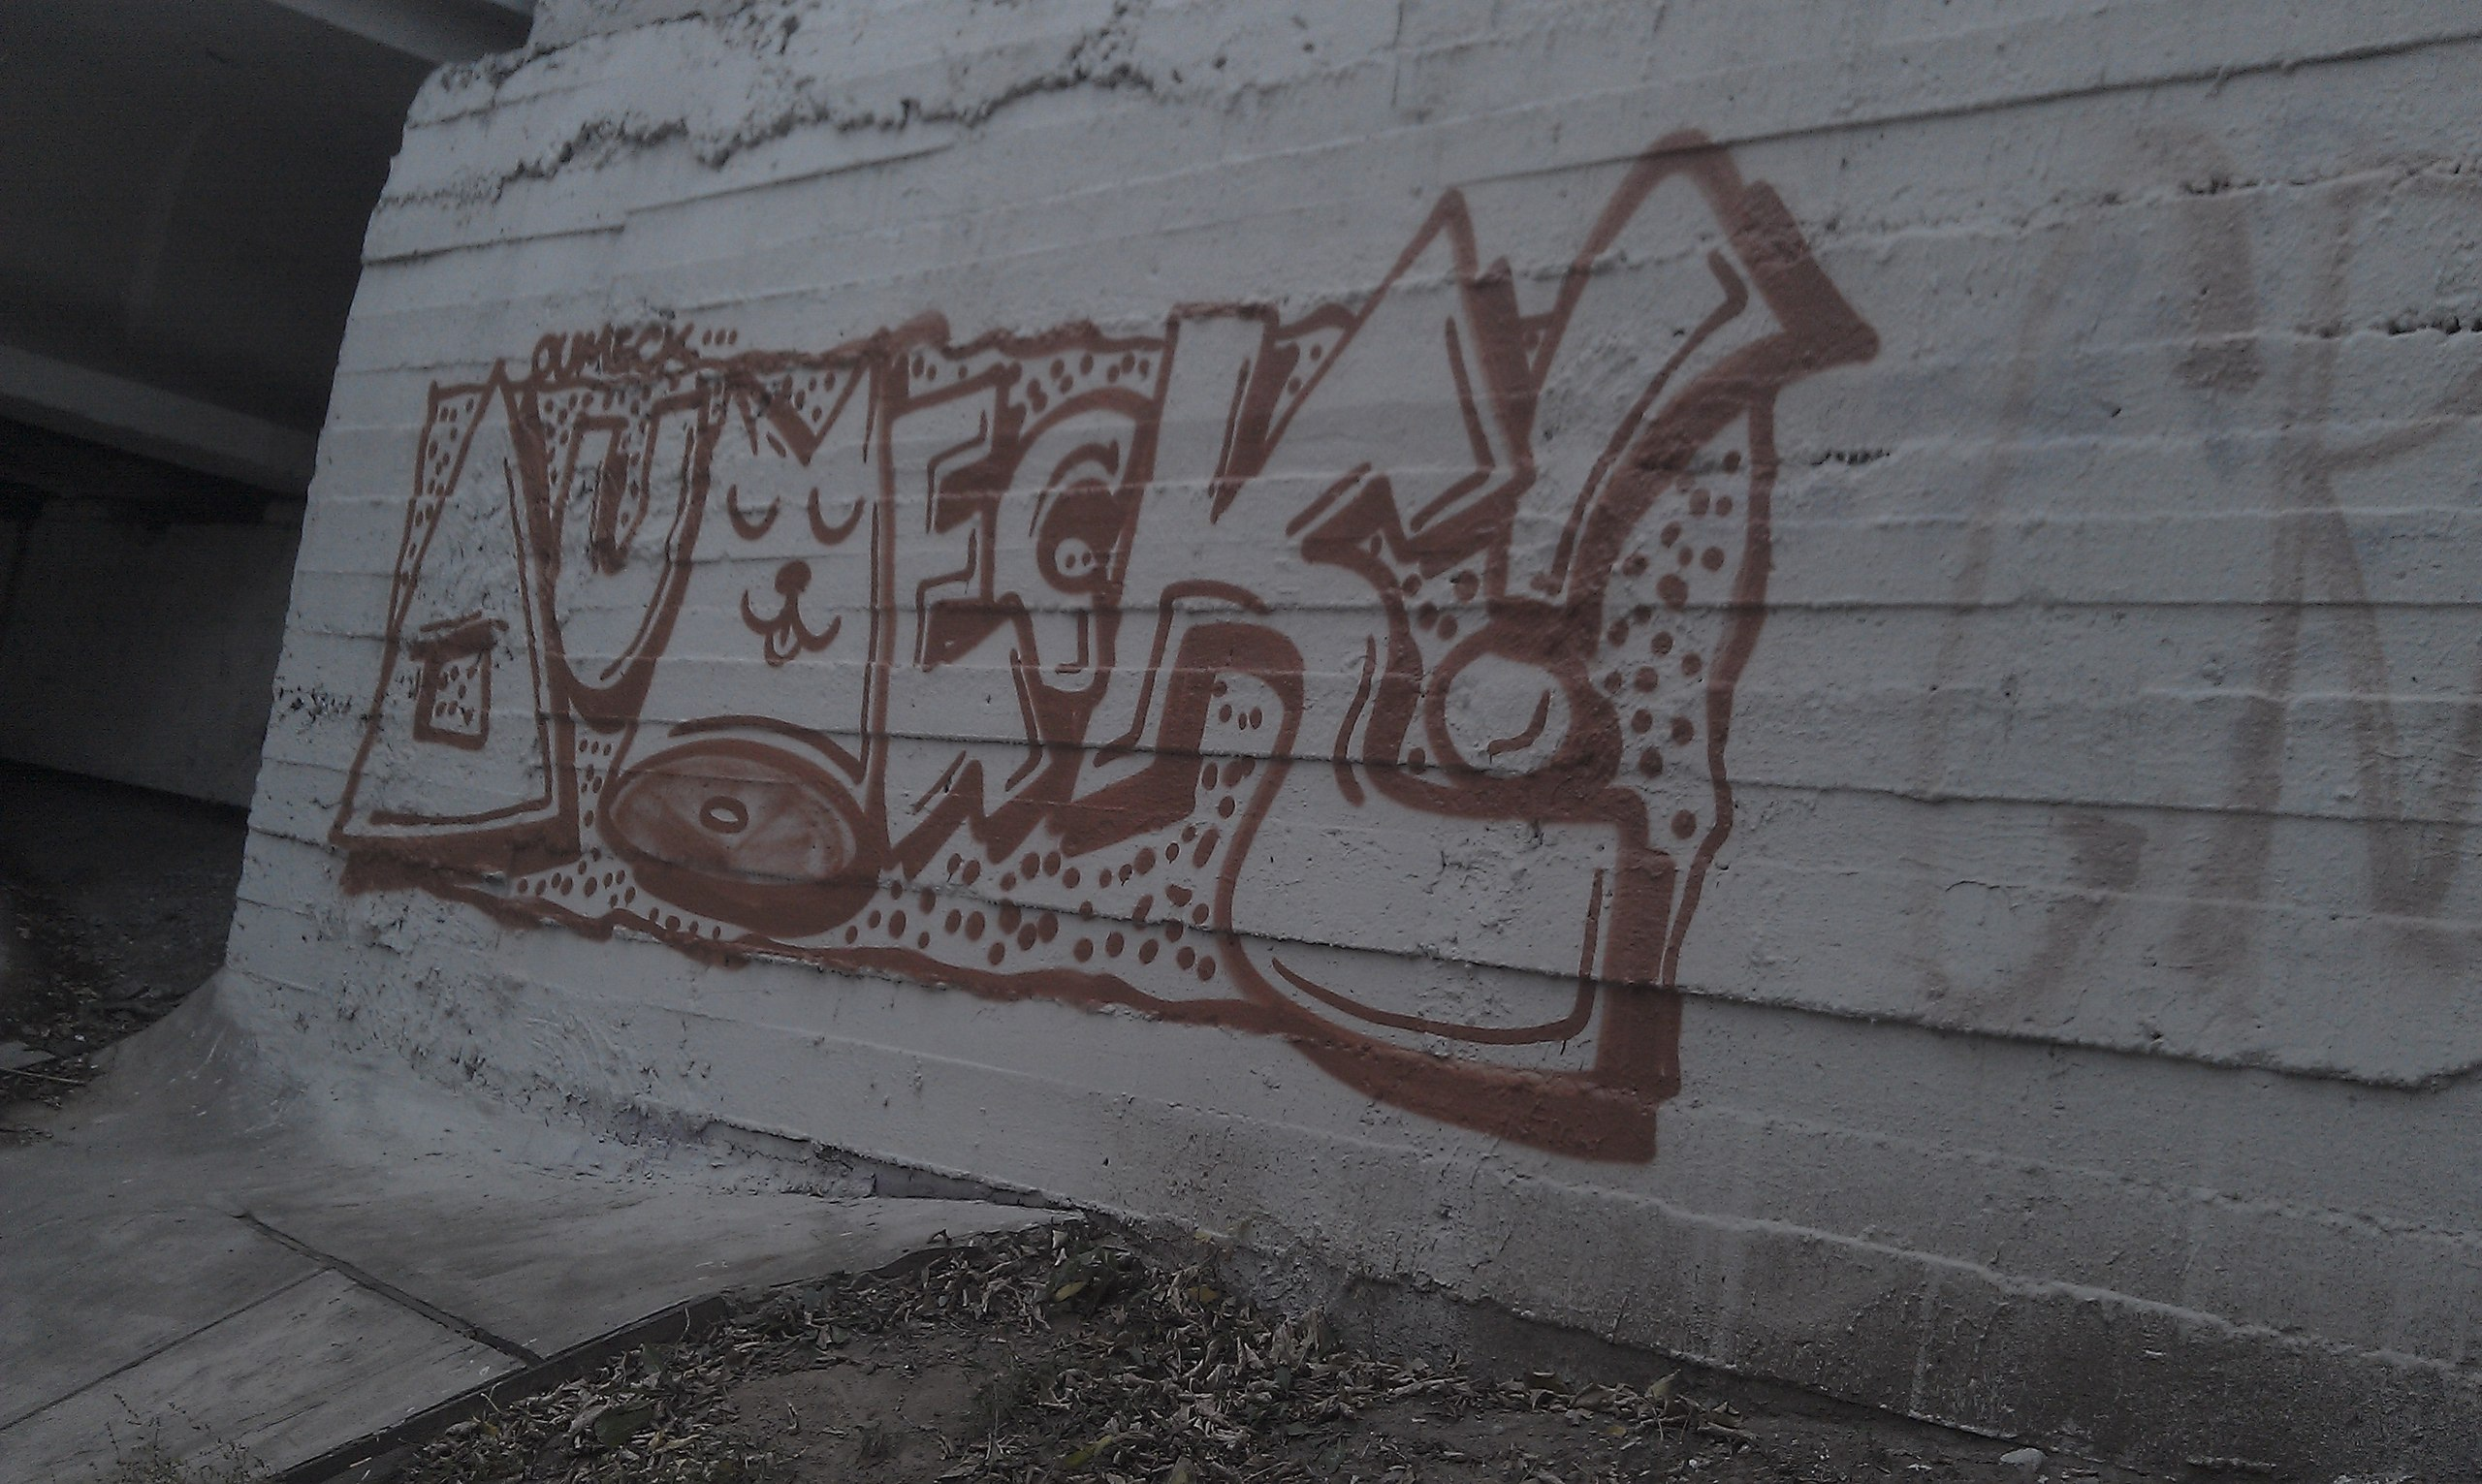graffity: (320, 117, 1897, 1237)
